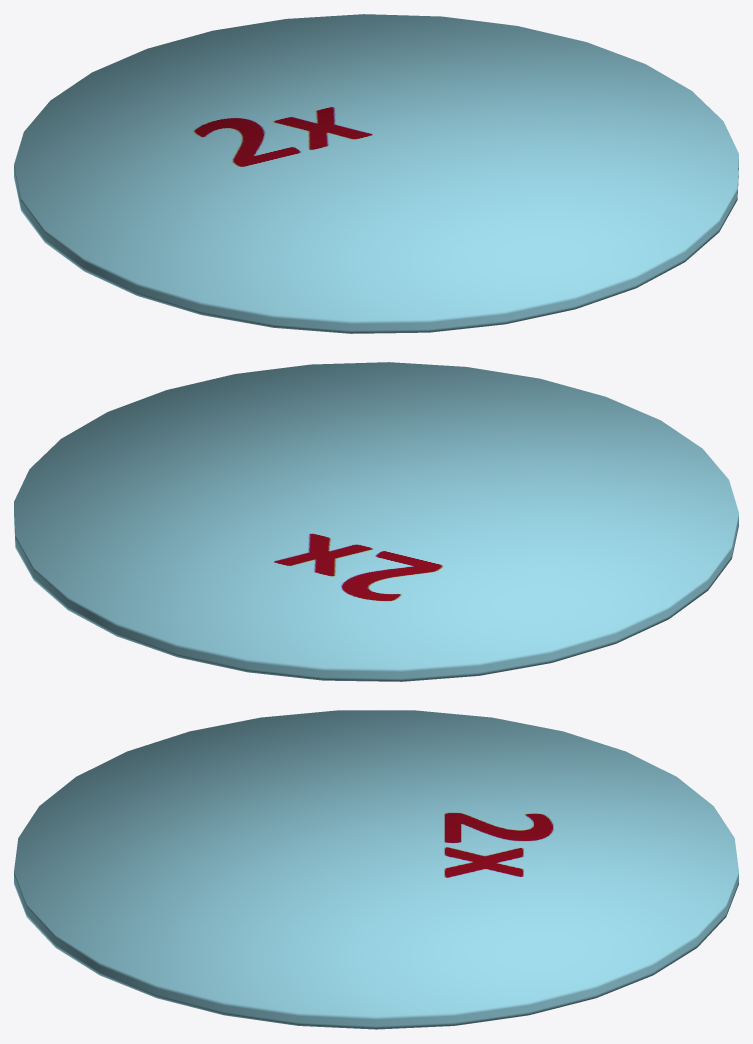
The model's file is doubleShots.obj.
3 renders of one model, top to bottom at view 1: azimuth 30°, elevation 25°; view 2: azimuth 150°, elevation 25°; view 3: azimuth 270°, elevation 25°, orthographic.
Visible parts, largest first — view 1: Cylinder001; view 2: Cylinder001; view 3: Cylinder001.
Part boxes in pixels (x1,y1,x2,y2): Cylinder001: [14, 14, 738, 333]; Cylinder001: [14, 362, 738, 681]; Cylinder001: [14, 710, 738, 1029].
Size of the model in its own units: 39.25 by 0.7874 by 39.31.
